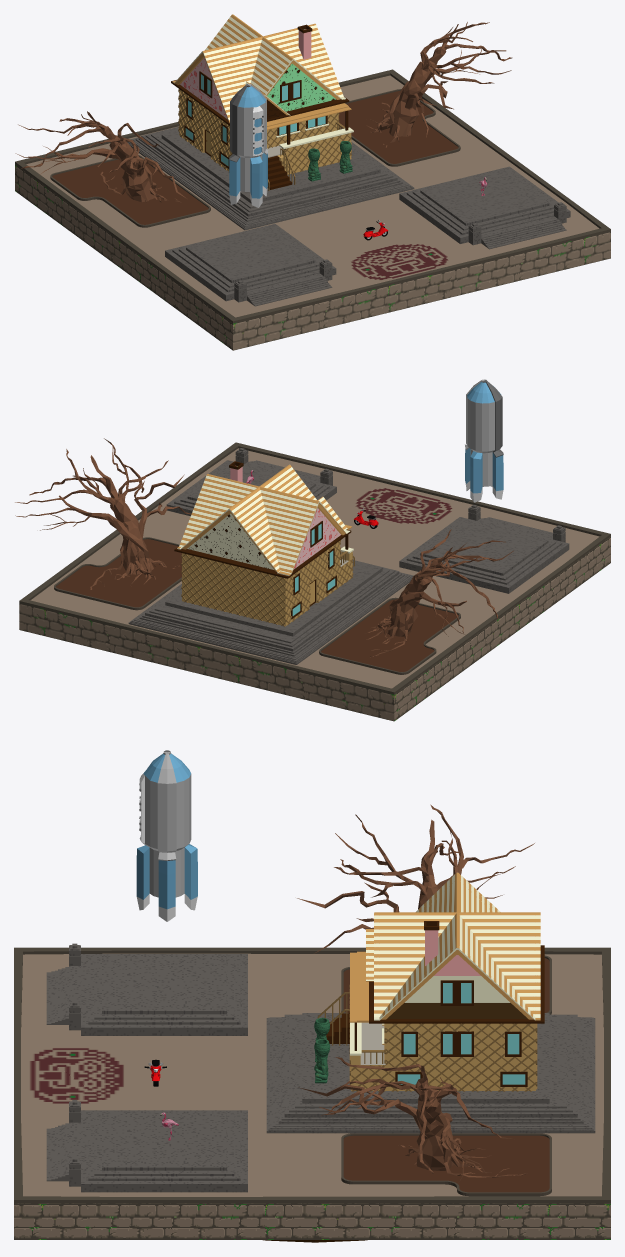
The picture shows the model from 3 angles, top to bottom: view 1: azimuth 30°, elevation 25°; view 2: azimuth 150°, elevation 25°; view 3: azimuth 270°, elevation 25°; orthographic projection. The views are drawn at different scales.
Parts seen in each view (by area): view 1: Cube.011, Cube.1102, OBJRANDOM_ROCKETSHIP; view 2: Cube.011, Cube.1102, OBJRANDOM_ROCKETSHIP; view 3: Cube.011, Cube.1102, OBJRANDOM_ROCKETSHIP.
Boxes of the visible parts, box(x1,y1,x2,y2) form: Cube.011: box(15, 22, 610, 350); Cube.1102: box(171, 14, 353, 190); OBJRANDOM_ROCKETSHIP: box(229, 84, 268, 207); Cube.011: box(15, 438, 610, 721); Cube.1102: box(174, 461, 354, 626); OBJRANDOM_ROCKETSHIP: box(465, 379, 503, 502); Cube.011: box(14, 804, 610, 1239); Cube.1102: box(317, 872, 544, 1091); OBJRANDOM_ROCKETSHIP: box(136, 750, 197, 921).
Size of the model in its own units: 5099 by 2242 by 4000.
Materials: 36 (6 with a texture image).
